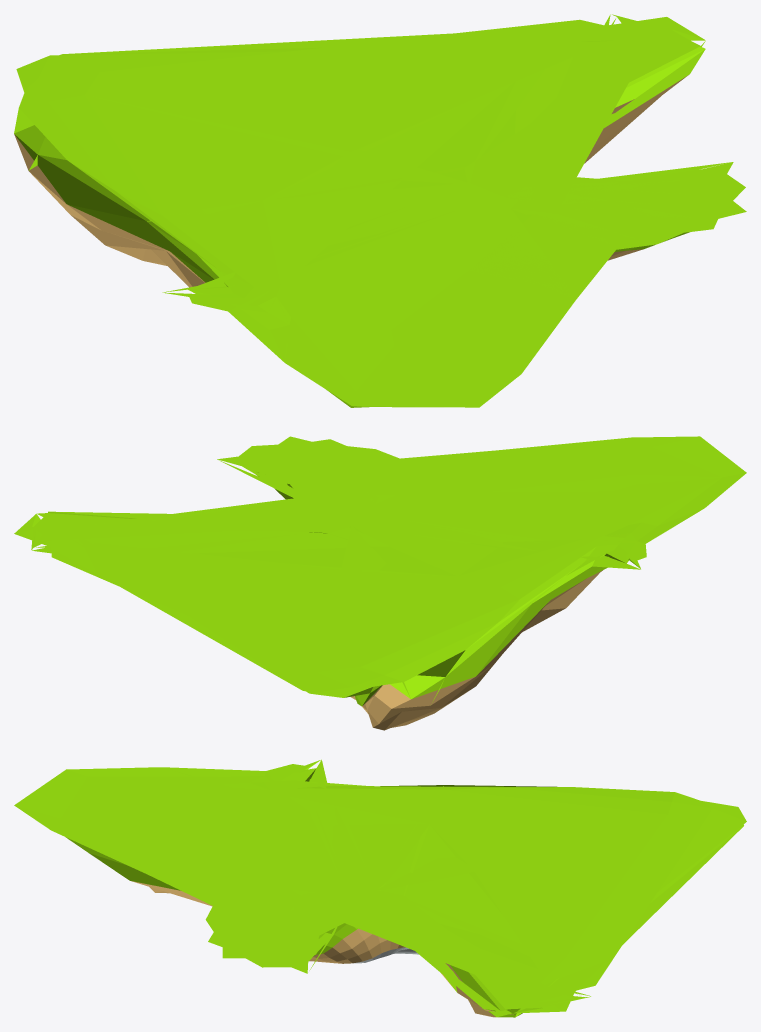
File: bigger_island.glb
The picture shows the model from 3 angles, top to bottom: view 1: azimuth 30°, elevation 25°; view 2: azimuth 150°, elevation 25°; view 3: azimuth 270°, elevation 25°; orthographic projection. The views are drawn at different scales.
Parts seen in each view (by area): view 1: Sphere; view 2: Sphere; view 3: Sphere.
Boxes of the visible parts, box(x1,y1,x2,y2) form: Sphere: box(14, 14, 746, 407); Sphere: box(14, 436, 746, 730); Sphere: box(14, 759, 746, 1017).
Size of the model in its own units: 42.43 by 7.93 by 51.76.
